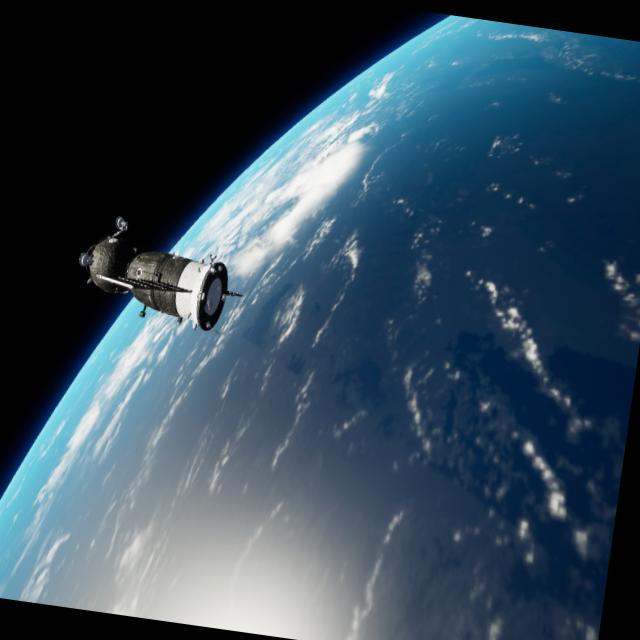Satellites revolving around earth: (69, 208, 254, 340)
